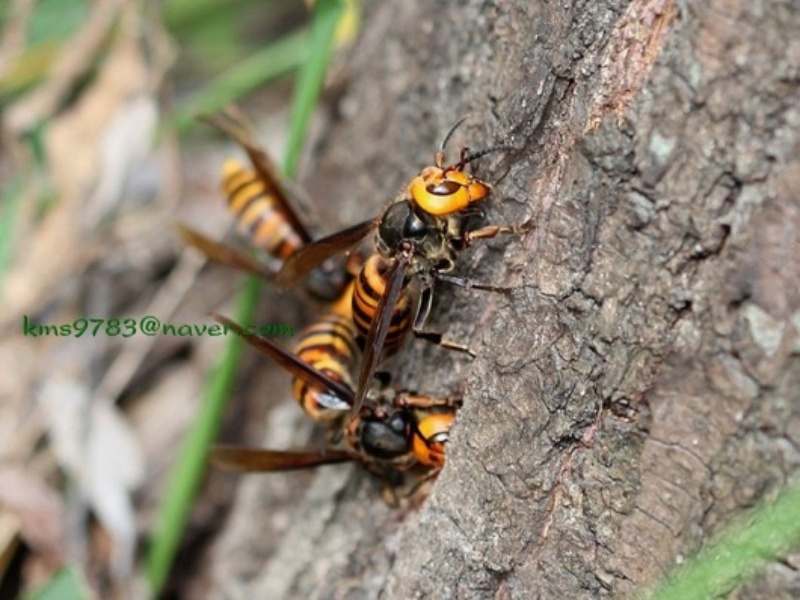asian_giant_hornet: (288, 310, 463, 492), (349, 159, 486, 354), (219, 158, 353, 304)
